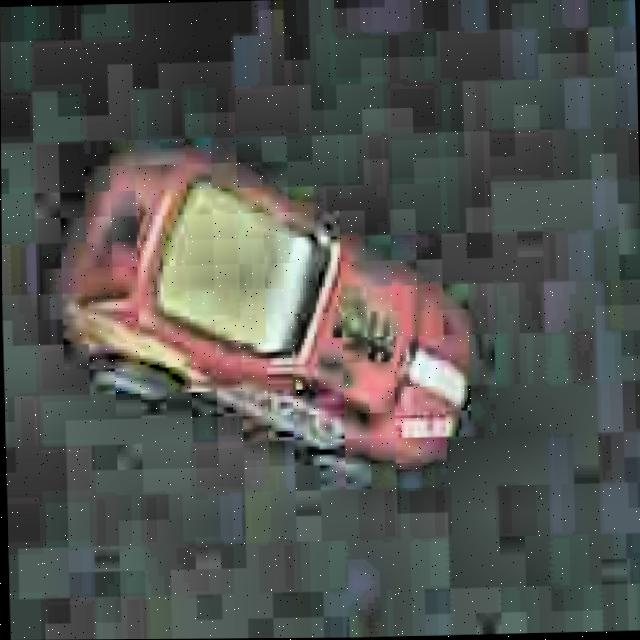car: (39, 129, 498, 498)
